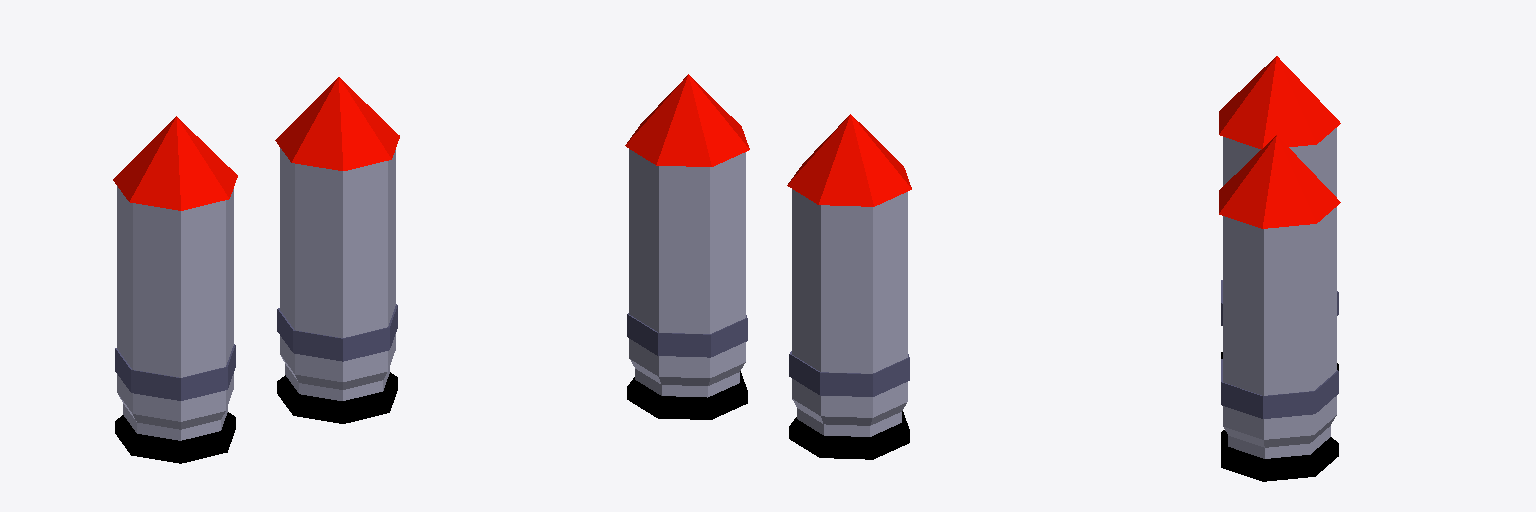
The picture shows the model from 3 angles: view 1: azimuth 30°, elevation 25°; view 2: azimuth 150°, elevation 25°; view 3: azimuth 270°, elevation 25°; orthographic projection.
Visible parts, largest first — view 1: Jetpack_Cone.001; view 2: Jetpack_Cone.001; view 3: Jetpack_Cone.001.
Boxes of the visible parts, x1,y1,x2,y2 form: Jetpack_Cone.001: [113, 77, 399, 463]; Jetpack_Cone.001: [625, 74, 911, 459]; Jetpack_Cone.001: [1219, 56, 1340, 481].
Size of the model in its own units: 5.24 by 5.94 by 2.05.
1 materials, 1 textured.